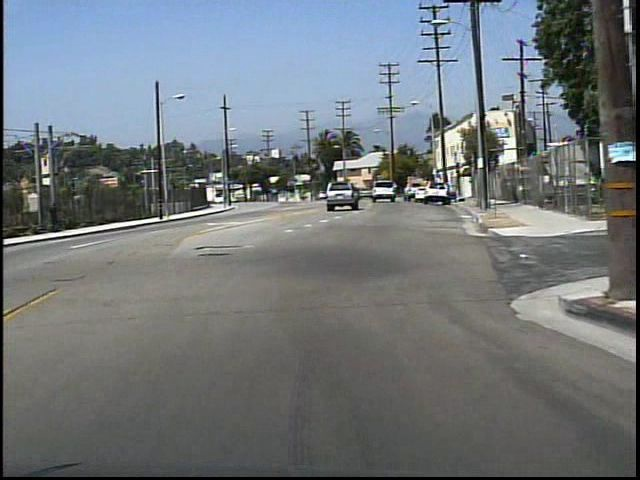person: (50, 199, 66, 236)
